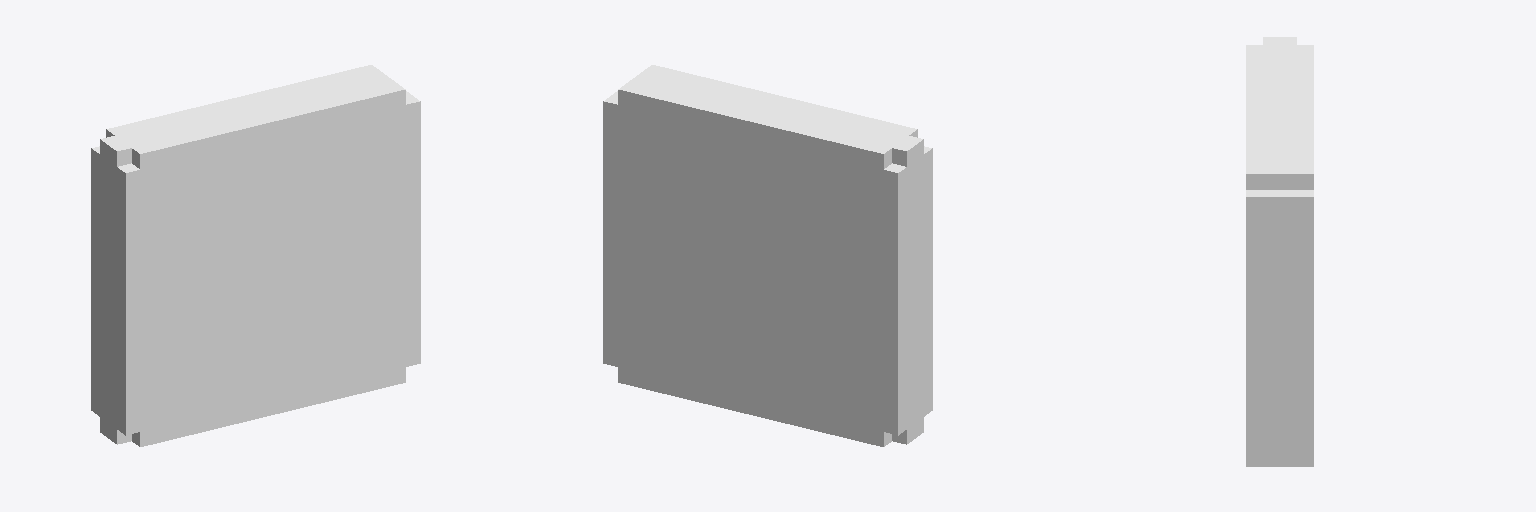
The model's file is weaponsshields-19.obj.
3 renders of one model, left to right at view 1: azimuth 30°, elevation 25°; view 2: azimuth 150°, elevation 25°; view 3: azimuth 270°, elevation 25°, orthographic.
Parts seen in each view (by area): view 1: weaponsshields-19; view 2: weaponsshields-19; view 3: weaponsshields-19.
Boxes of the visible parts, x1=… form: weaponsshields-19: x1=91, y1=65, x2=420, y2=446; weaponsshields-19: x1=603, y1=65, x2=932, y2=446; weaponsshields-19: x1=1246, y1=37, x2=1313, y2=466.
Size of the model in its own units: 20 by 19 by 4.